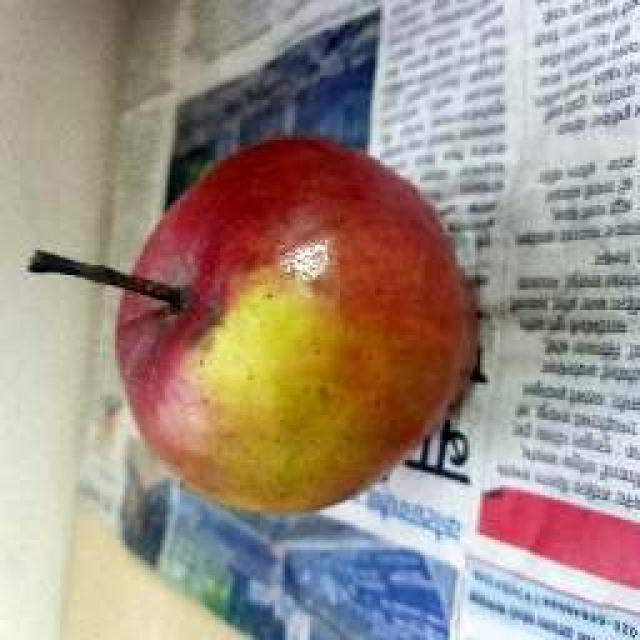Good_Apple: (32, 135, 480, 518)
